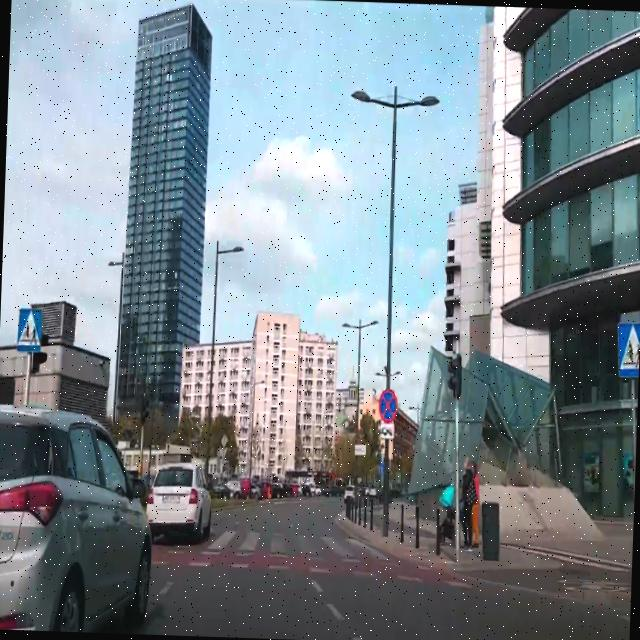Zakaz zatrzymywania sie: (378, 388, 398, 422)
